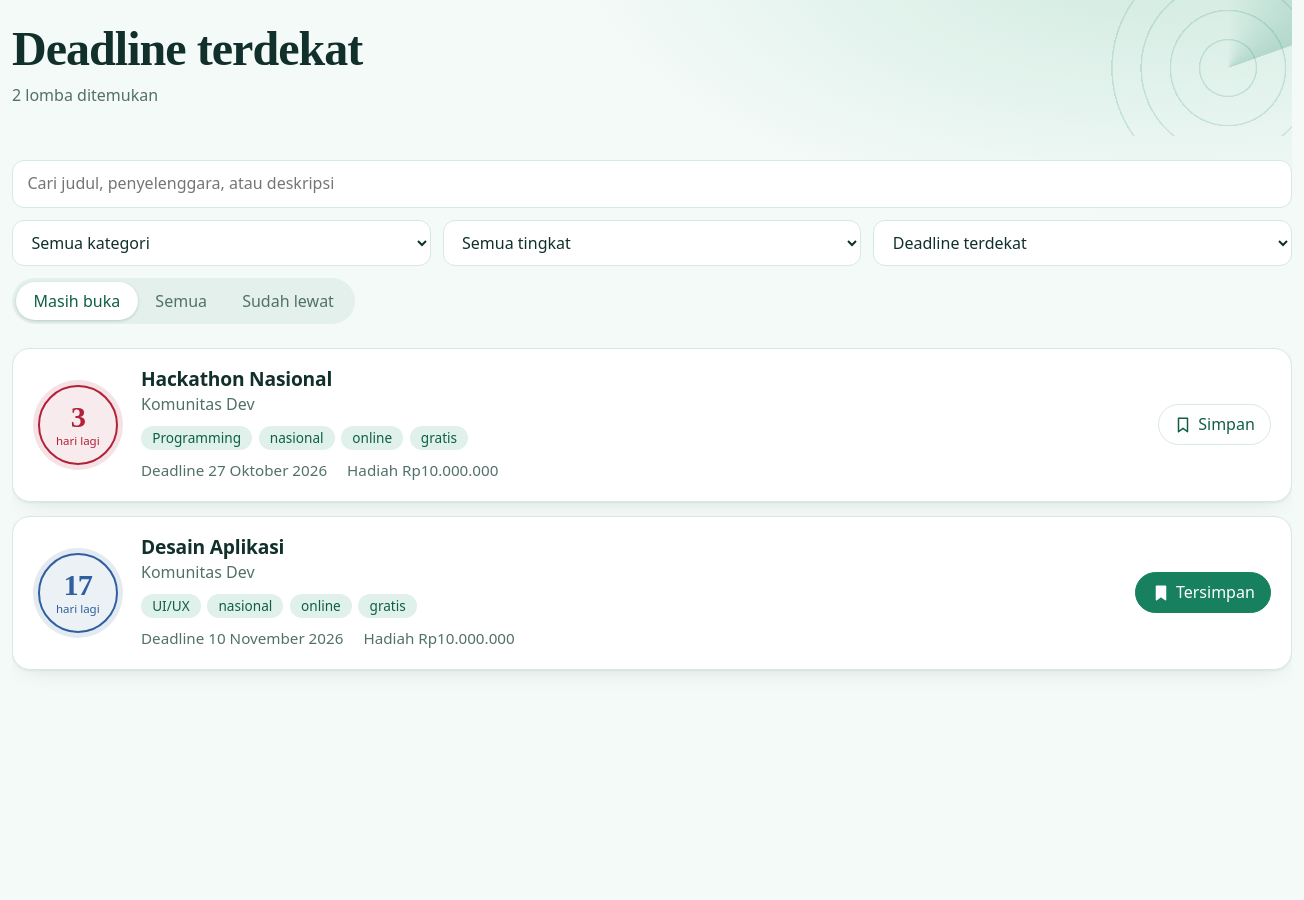
Test case: Beranda › klik "Tersimpan" menghapus bookmark
Check: the link "Desain Aplikasi" is shown, box [141,532,284,560]
Click the button "Tersimpan" at (1203, 593), box [1135,572,1271,613]
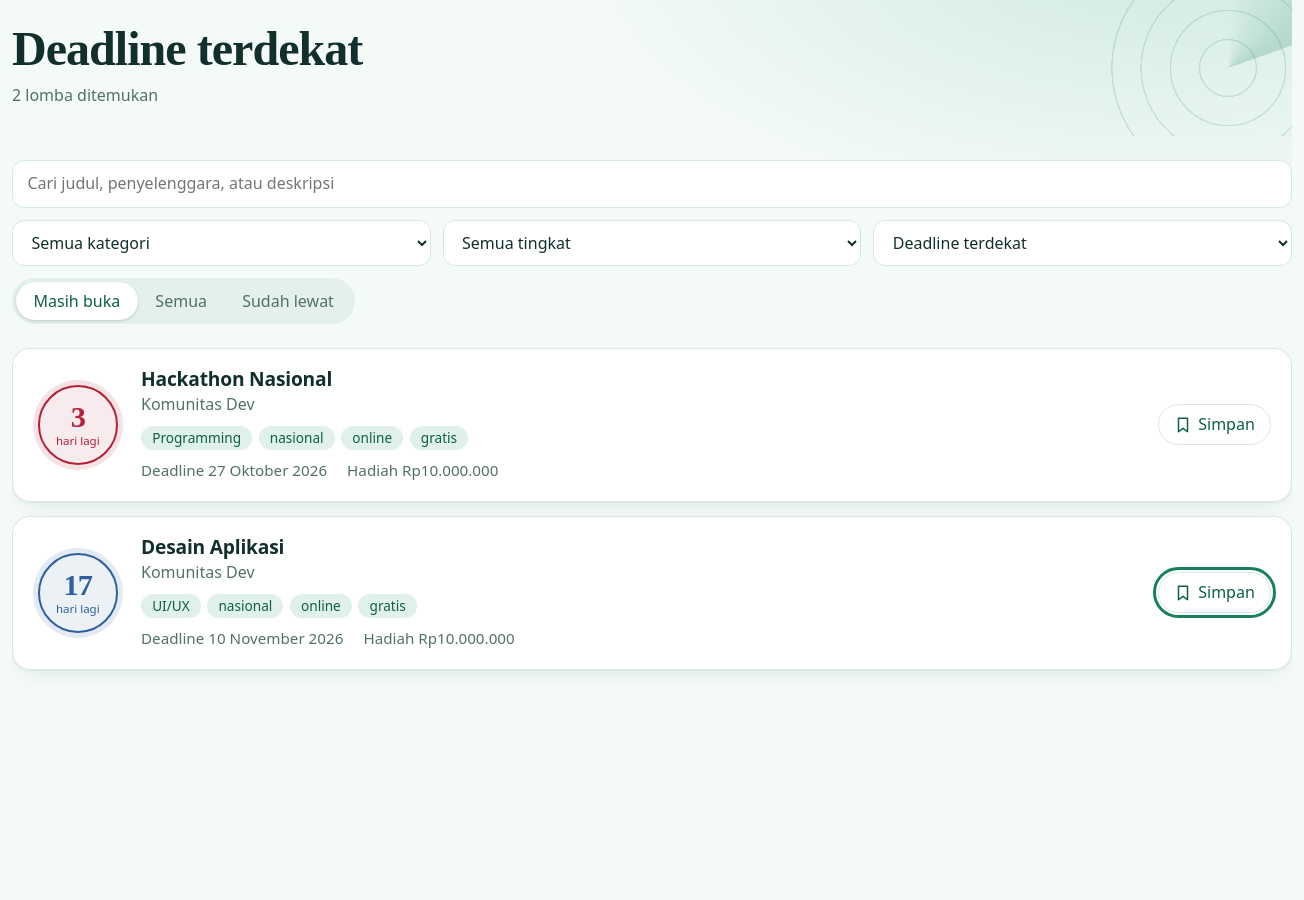
Check: the button "Tersimpan" is gone
